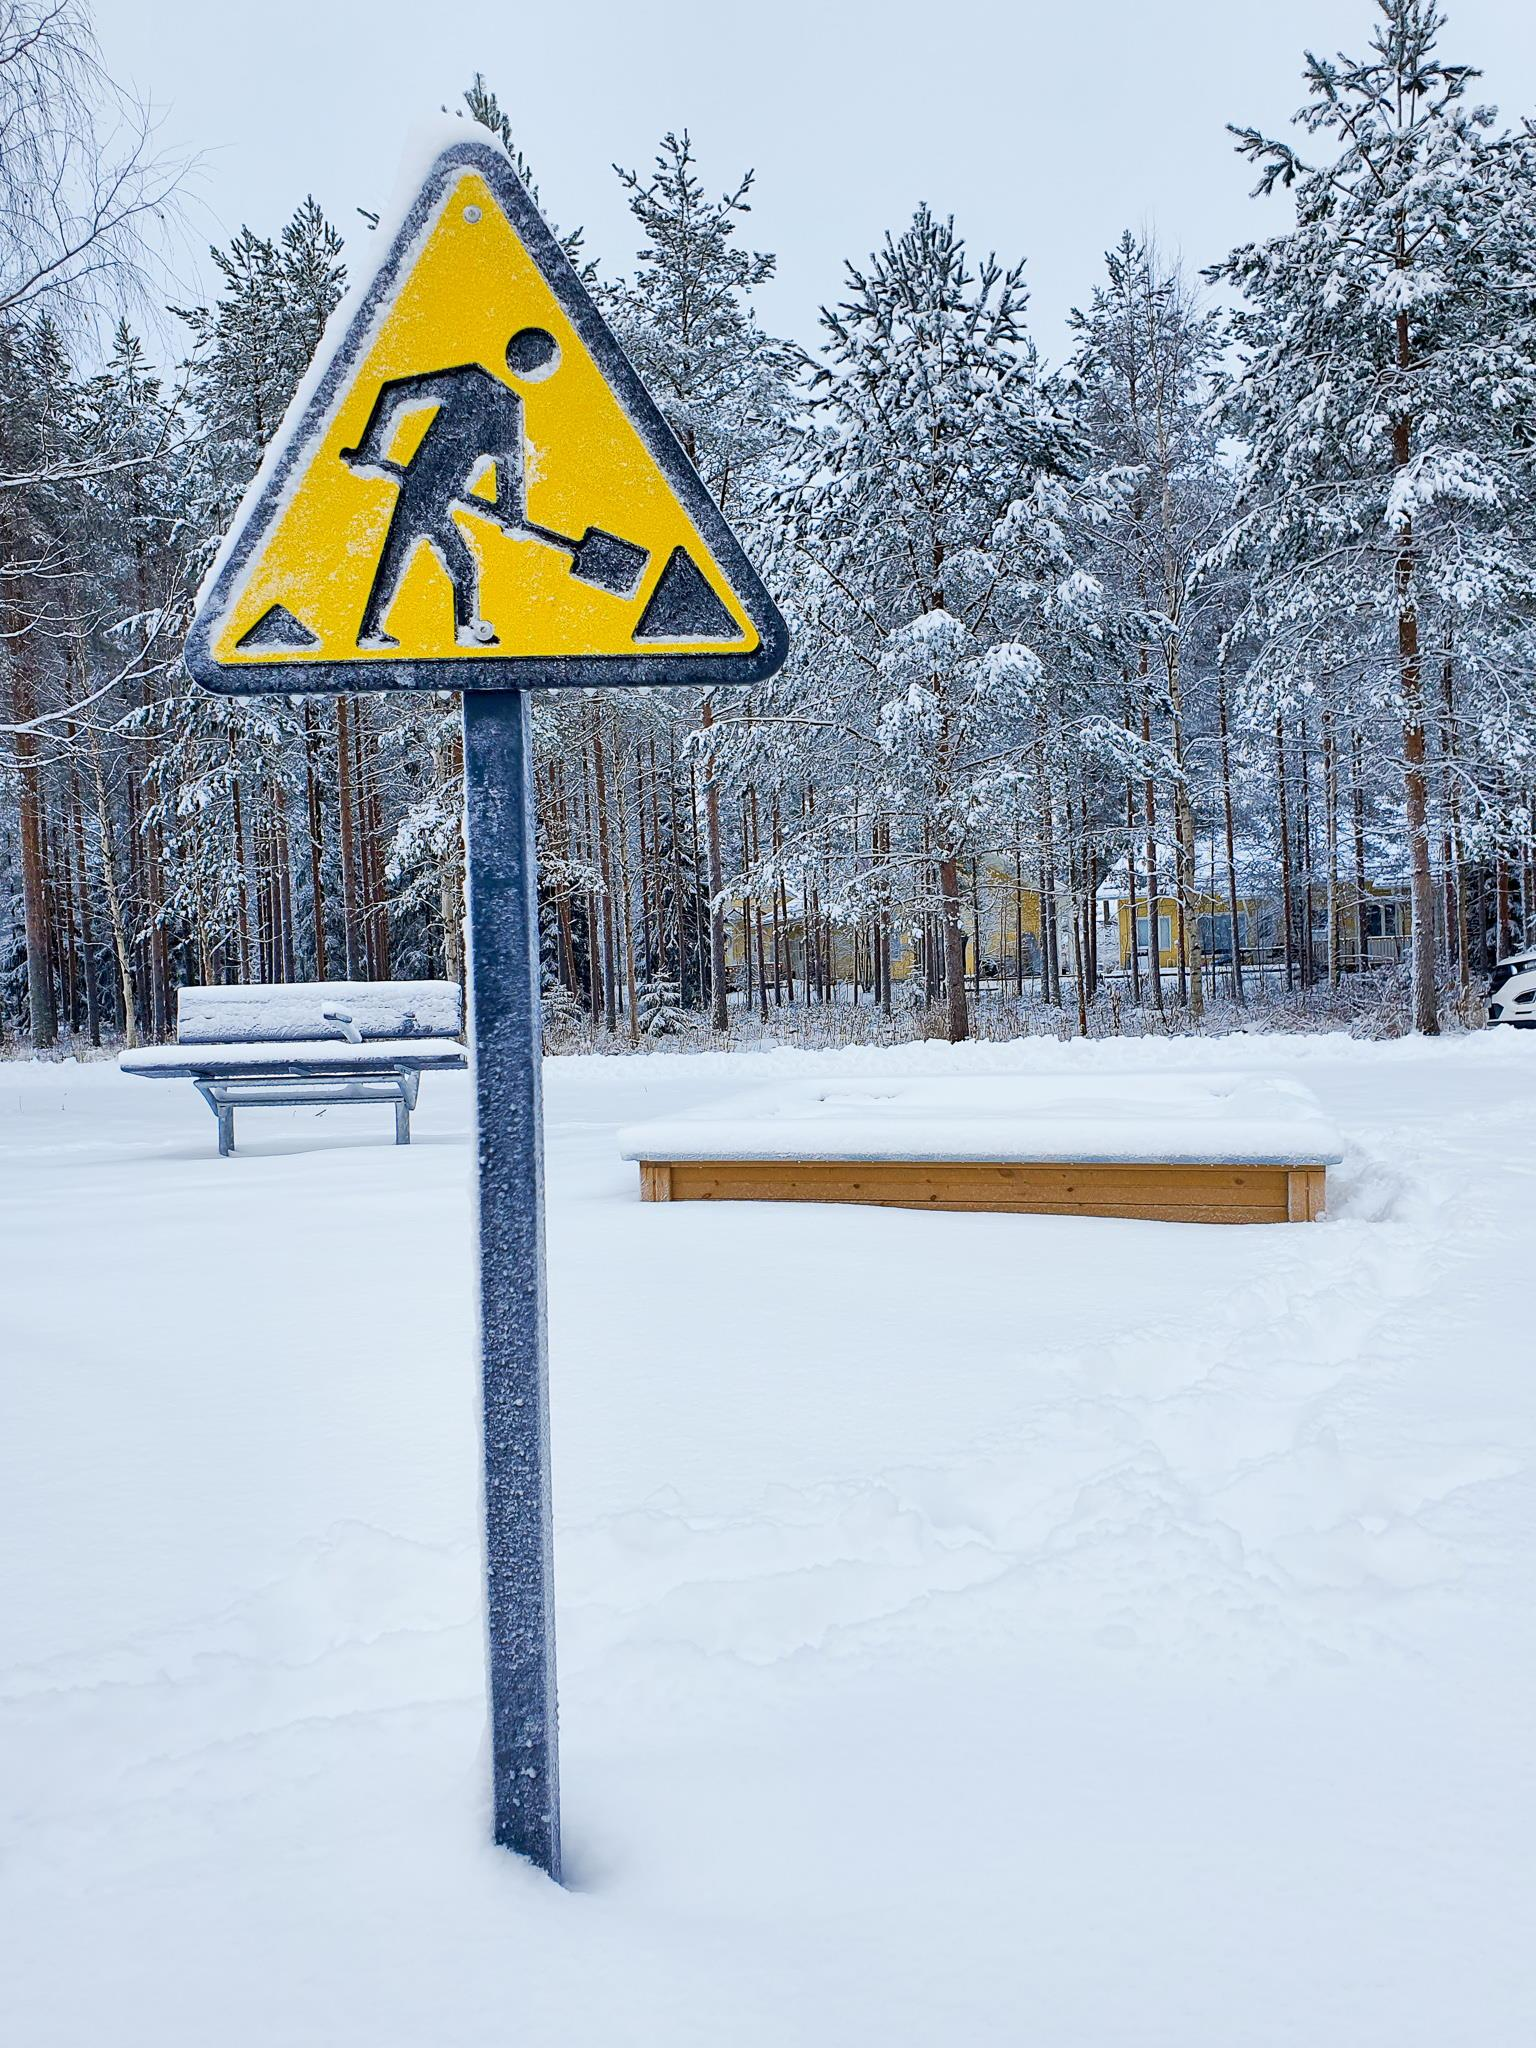traffic sign: (127, 114, 842, 1925)
